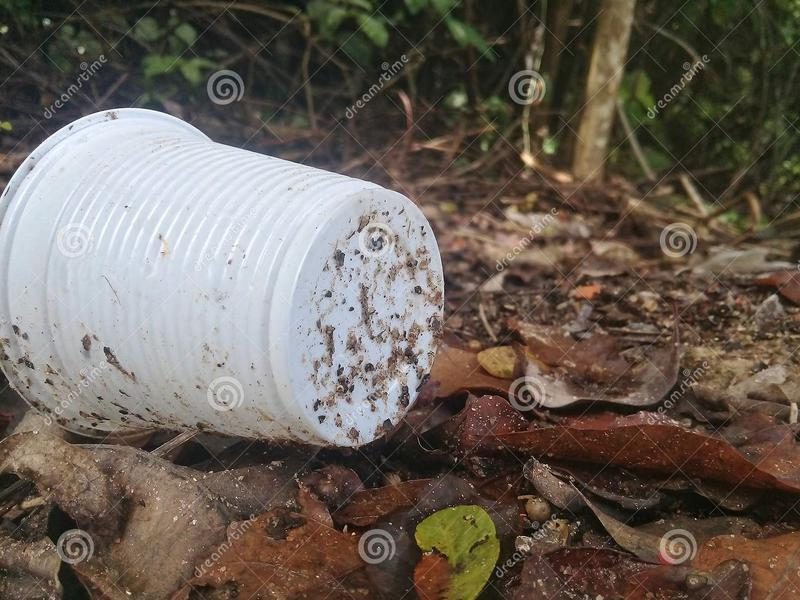cup: (1, 102, 455, 457)
leaf: (457, 392, 800, 508), (510, 455, 684, 567), (397, 503, 512, 600)
